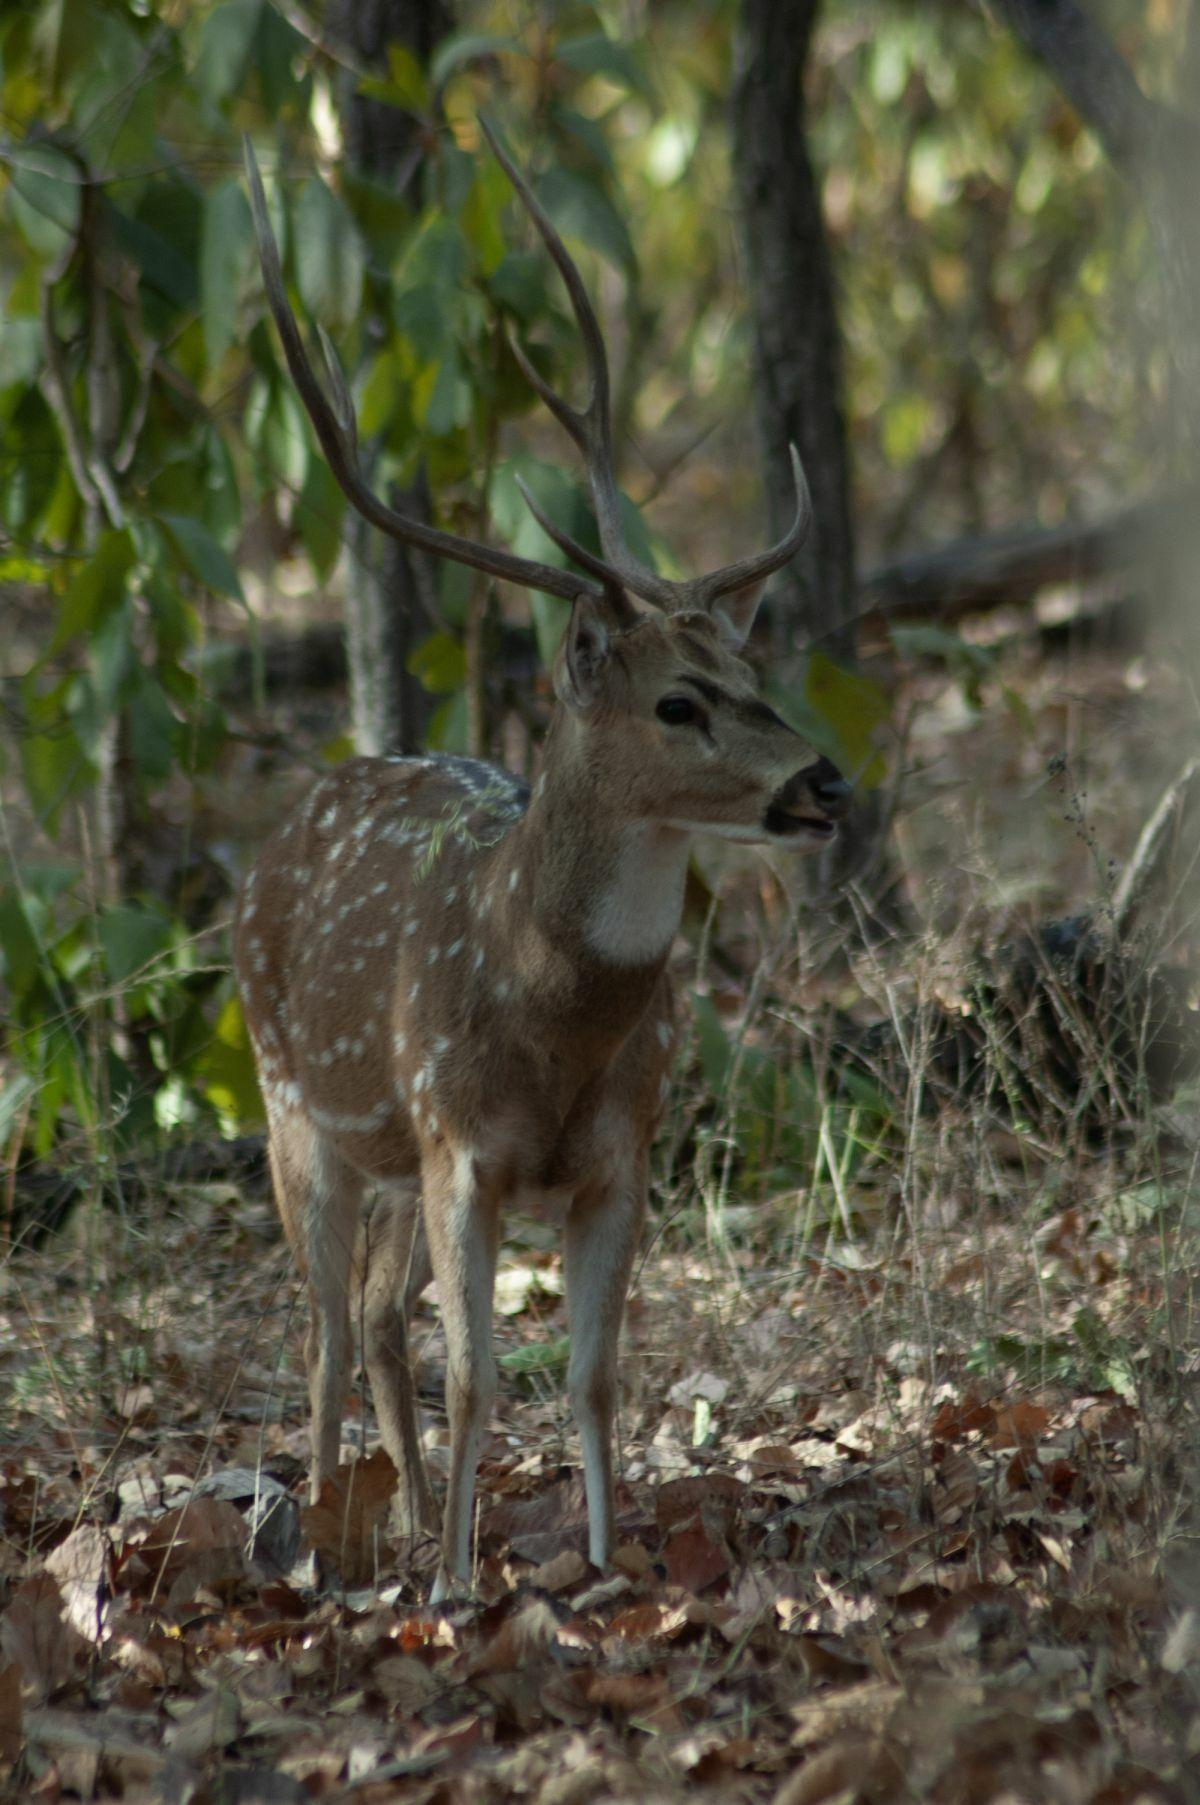Deer: (234, 141, 845, 1584)
